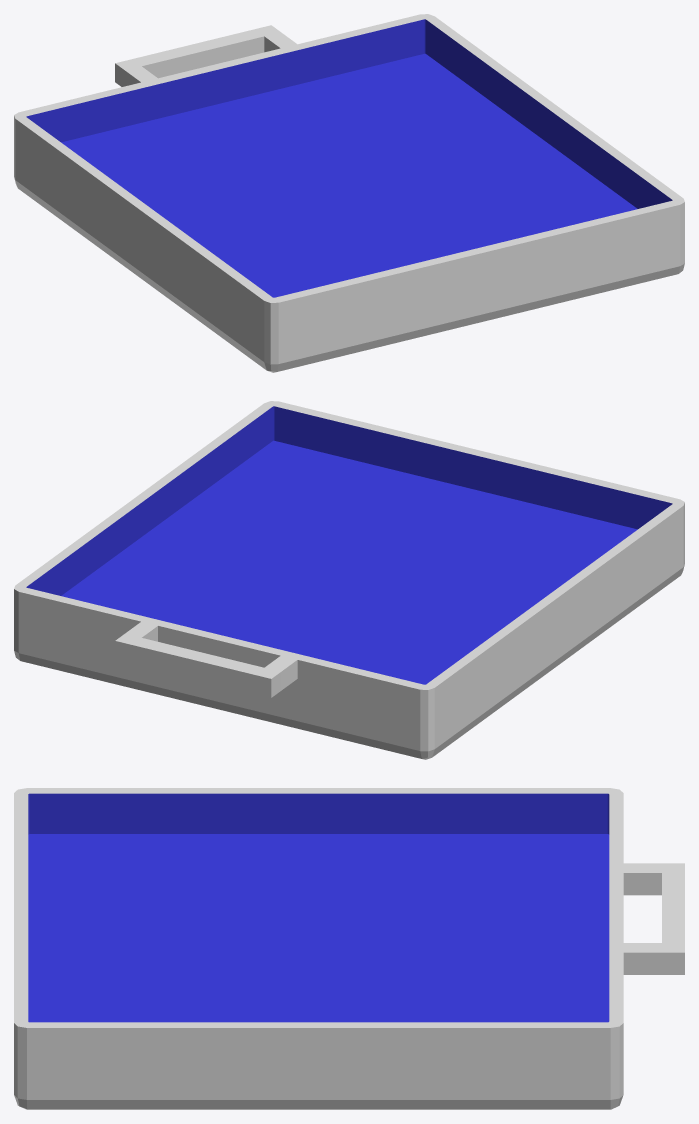
File: ToolboxCaseTop.fbx
3 renders of one model, top to bottom at view 1: azimuth 30°, elevation 25°; view 2: azimuth 150°, elevation 25°; view 3: azimuth 270°, elevation 25°, orthographic. The views are drawn at different scales.
Visible parts, largest first — view 1: ToolboxClose; view 2: ToolboxClose; view 3: ToolboxClose.
Part boxes in pixels (x1,y1,x2,y2): ToolboxClose: (14,14,684,372); ToolboxClose: (14,401,684,759); ToolboxClose: (14,788,684,1109).
Bounding box in the file's own units: 107 × 18.09 × 126.
